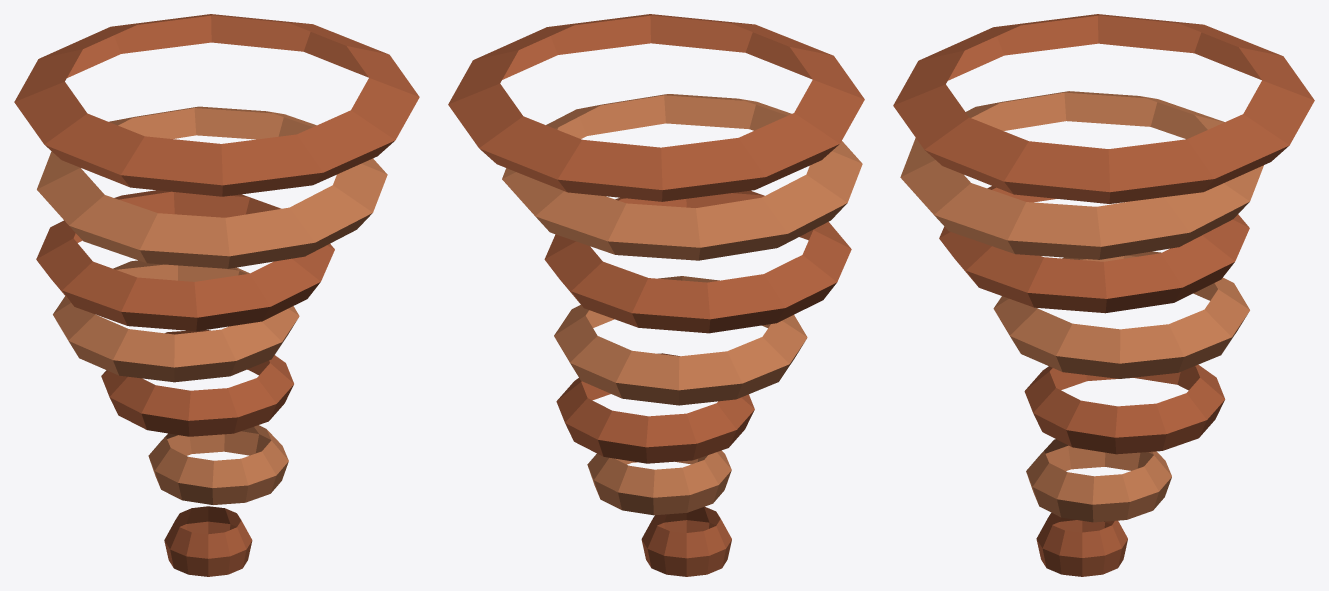
The model's file is dust_devil.glb.
The picture shows the model from 3 angles, left to right: view 1: azimuth 30°, elevation 25°; view 2: azimuth 150°, elevation 25°; view 3: azimuth 270°, elevation 25°; orthographic projection. The views are drawn at different scales.
Visible parts, largest first — view 1: dust_devil; view 2: dust_devil; view 3: dust_devil.
Part boxes in pixels (left/top/right/bottom): dust_devil: left=14, top=14, right=419, bottom=576; dust_devil: left=448, top=14, right=864, bottom=576; dust_devil: left=893, top=14, right=1314, bottom=576.
Size of the model in its own units: 6.44 by 8.2 by 6.44.
